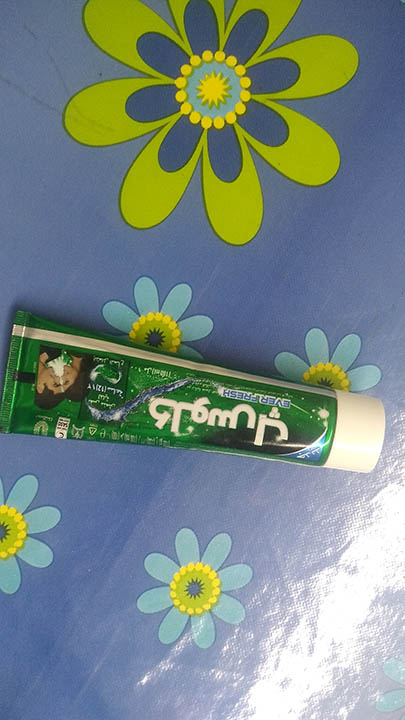Toothpaste-Closeup 3.04$: (1, 312, 403, 483)
